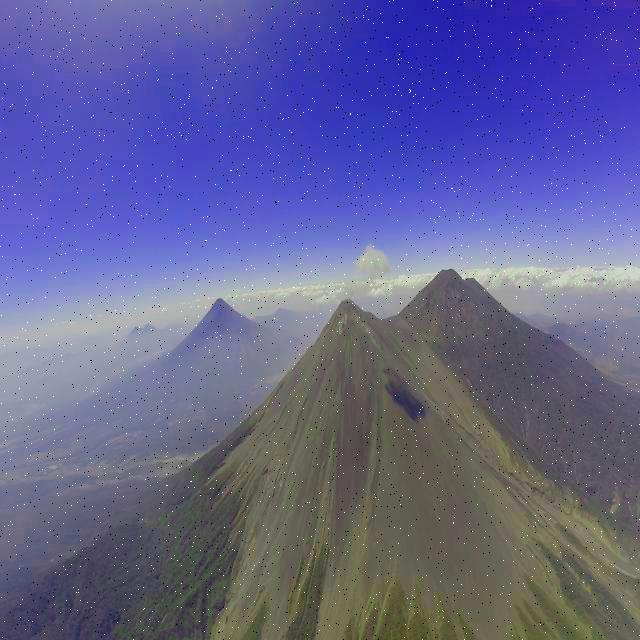Plume: (355, 245, 390, 278)
Summit: (316, 296, 378, 339)
